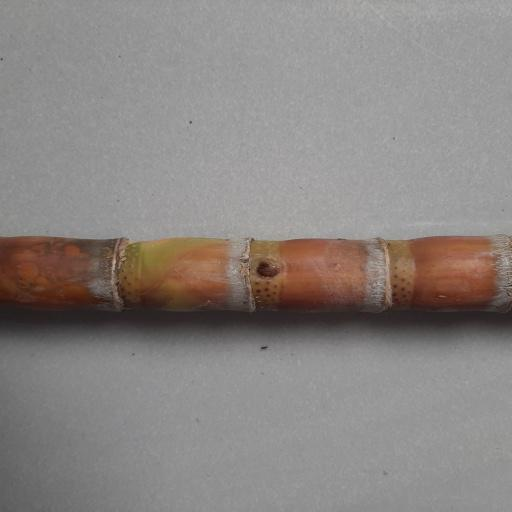Bud: (256, 258, 282, 278)
